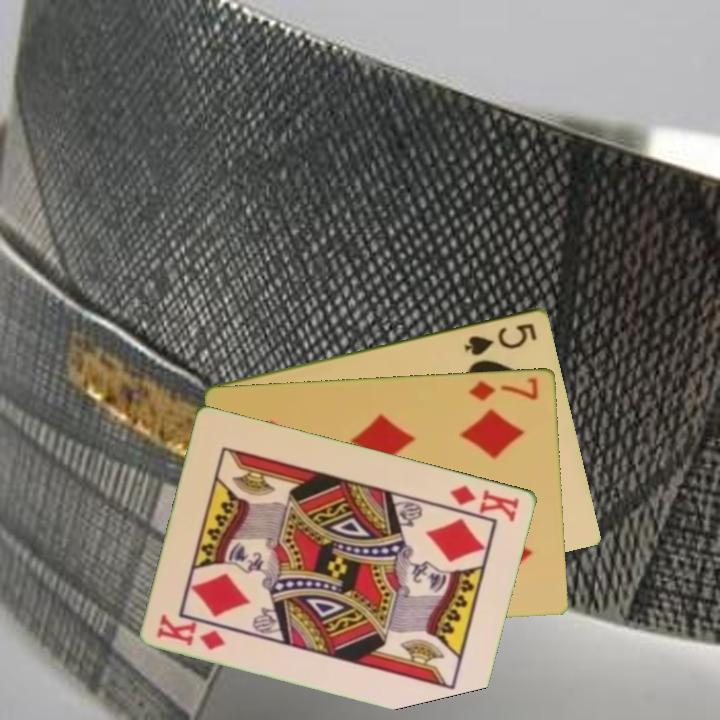5s: (461, 319, 540, 358)
7d: (466, 373, 541, 403)
Kd: (446, 481, 523, 524), (154, 610, 229, 653)
